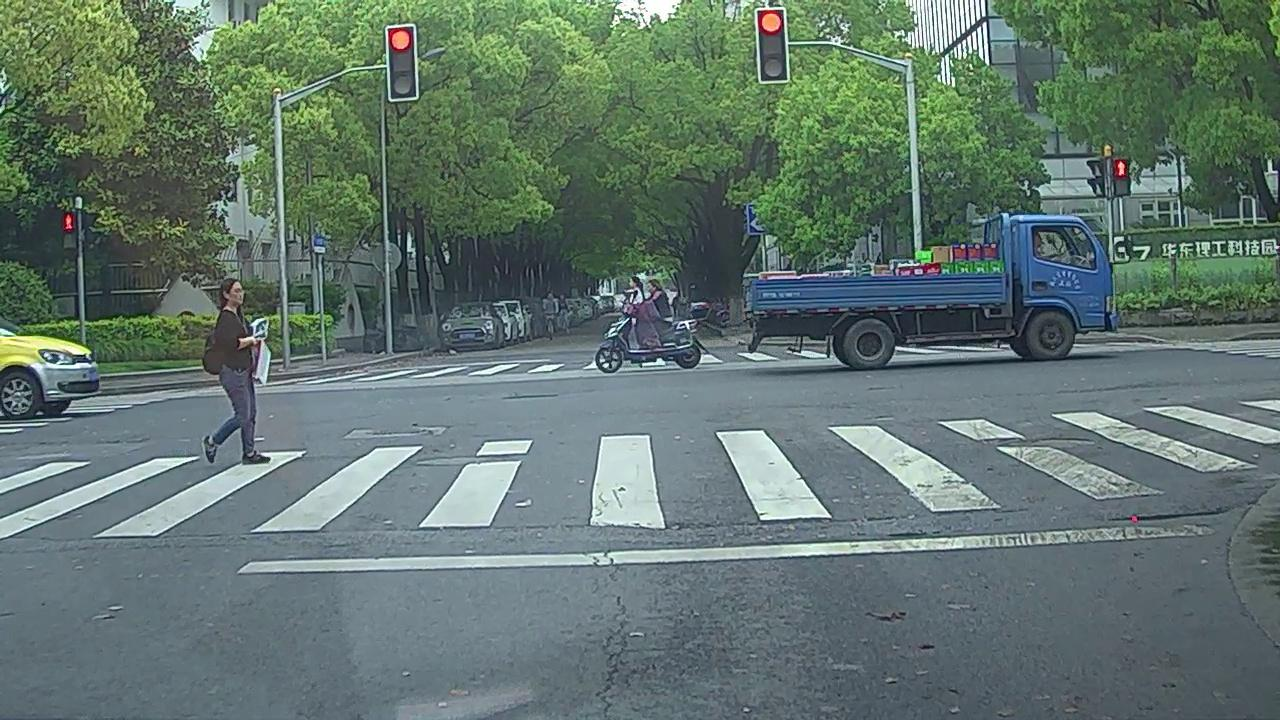traffic_light: (757, 12, 792, 81), (386, 25, 419, 97)
